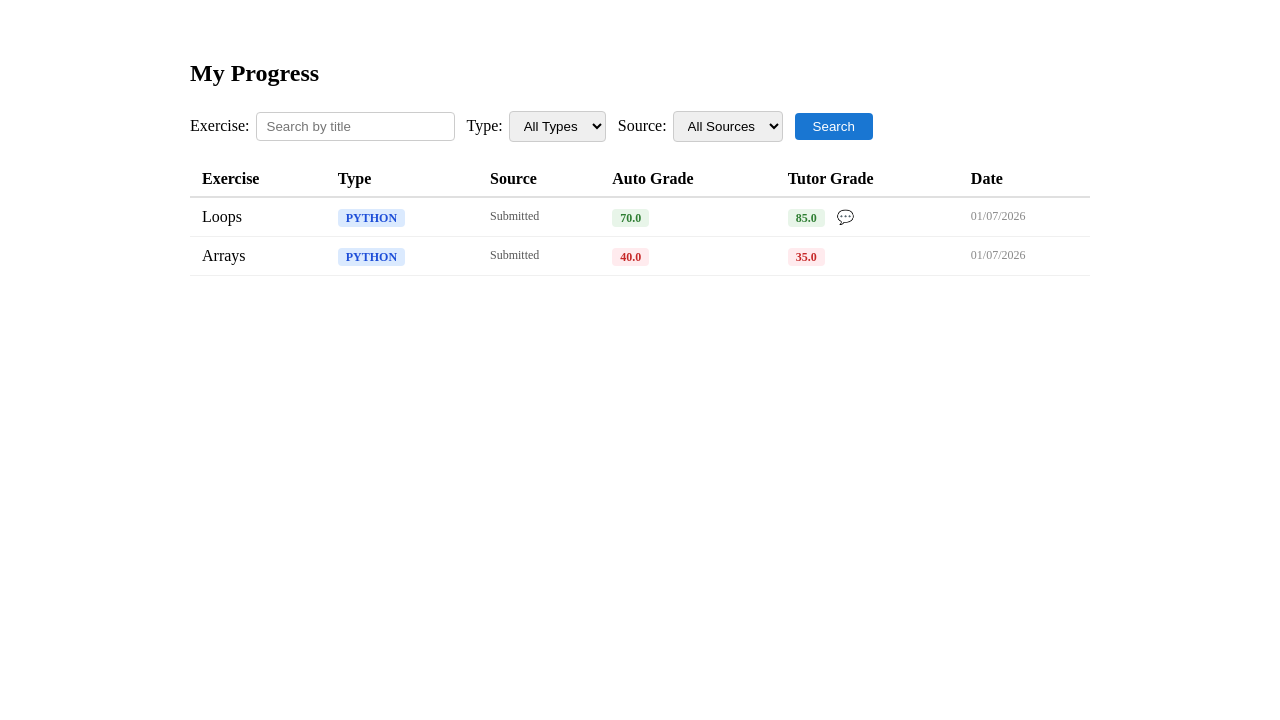
Scenario: clicking the comment button opens a modal with the comment text, without navigating to the detail view
Click the button named "view tutor comment": (846, 217) left=831, top=208, right=860, bottom=226
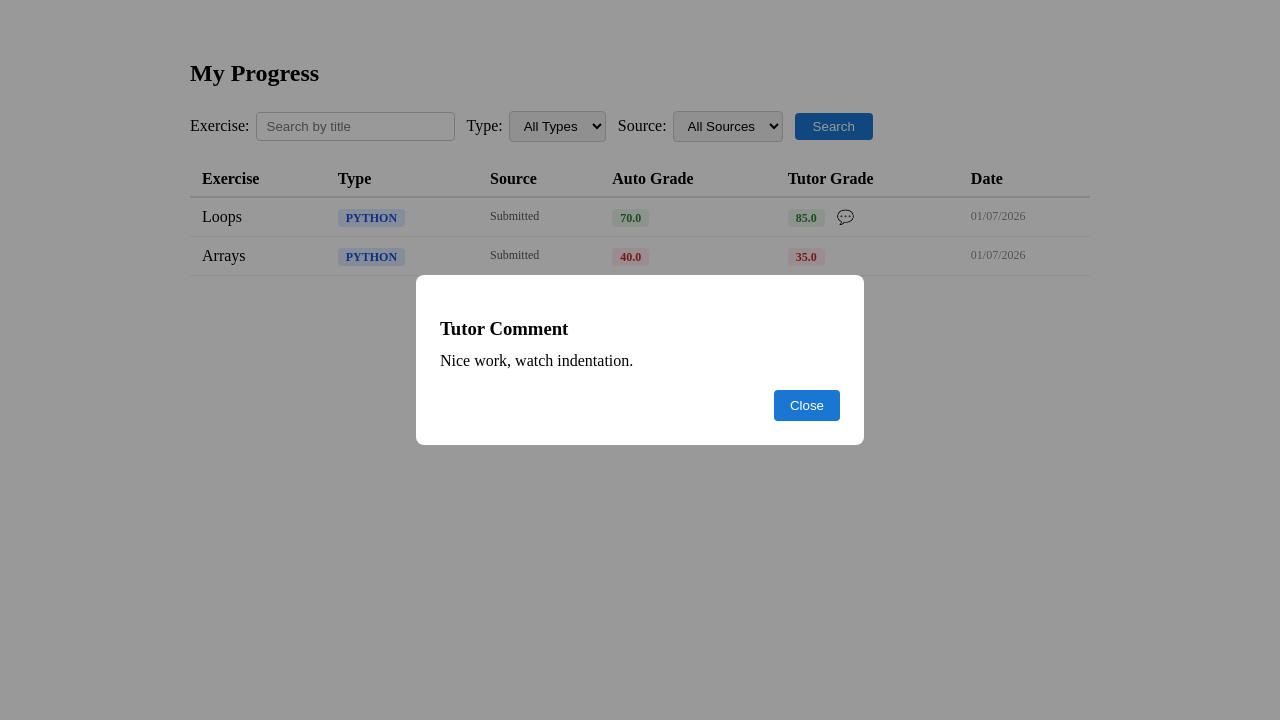
Now the dialog is shown, box left=416, top=275, right=864, bottom=445
Now the text "Nice work, watch indentation." is shown, box left=440, top=352, right=633, bottom=369
